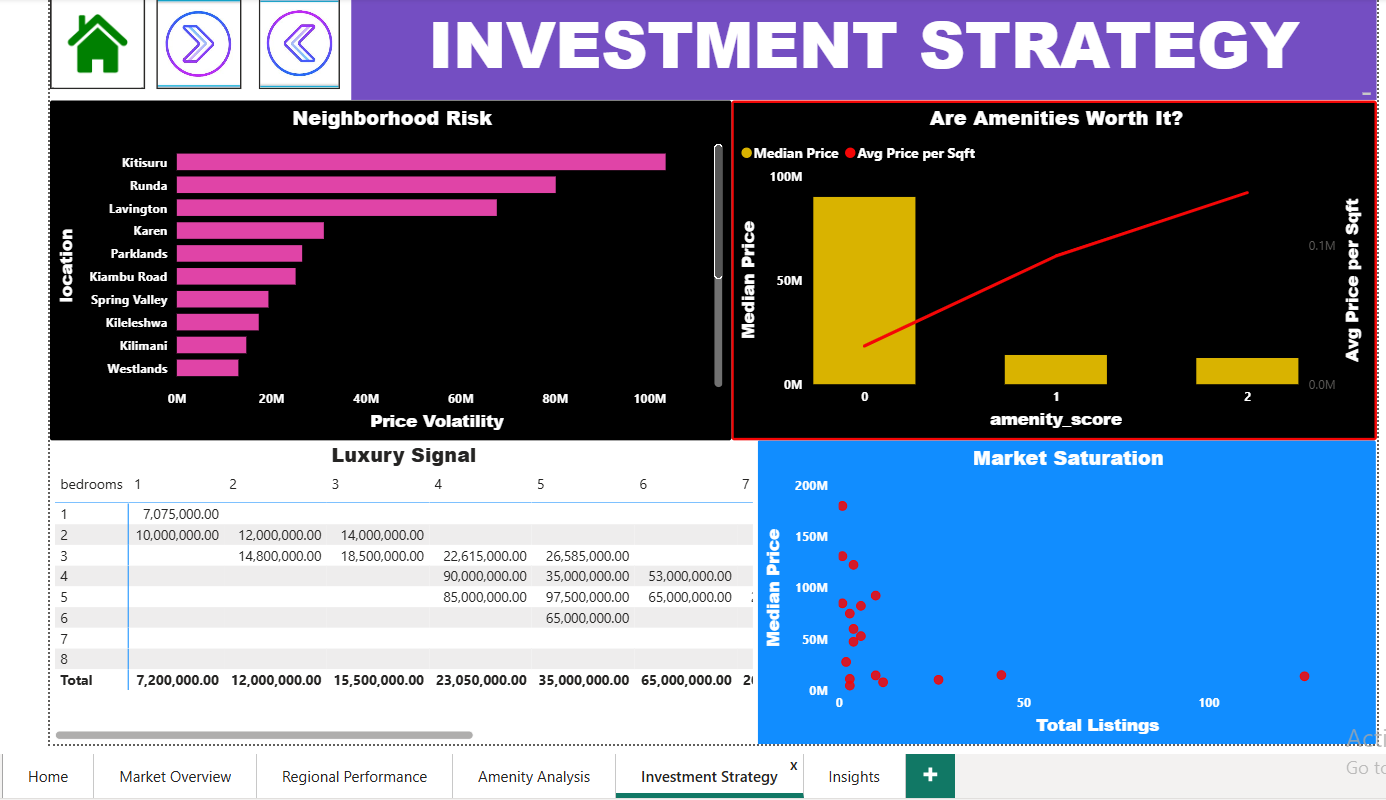

The page's visual inventory and layout, read from the dashboard file:
{"tool":"powerbi","page":{"name":"Investment Strategy","canvas":[1280,720],"ordinal":4},"visuals":[{"type":"scatterChart","title":"Market Saturation","fields":{"X":["clean_listings.Total Listings"],"Y":["clean_listings.Median Price"],"Category":["clean_listings.location"]},"box":[683.4,426.8,596.9,293.7],"z":0},{"type":"pivotTable","title":"Luxury Signal","fields":{"Rows":["clean_listings.bedrooms"],"Columns":["clean_listings.bathrooms"],"Values":["clean_listings.Median Price"]},"box":[0,426.8,683.4,293.7],"z":1000},{"type":"lineStackedColumnComboChart","title":"Are Amenities Worth It?","fields":{"Category":["clean_listings.amenity_score"],"Y":["clean_listings.Median Price"],"Y2":["clean_listings.Avg Price per Sqft"]},"box":[657.3,98.8,623,328],"z":2000},{"type":"clusteredBarChart","title":"Neighborhood Risk","fields":{"Category":["clean_listings.location"],"Y":["clean_listings.Price Volatility"]},"box":[0,98.8,657.3,328],"z":3000},{"type":"textbox","title":"INVESTMENT STRATEGY","box":[290.9,0,989.4,98.8],"z":4000},{"type":"image","box":[0,0,91.9,87.8],"z":5000},{"type":"image","box":[102.9,0,82.3,87.8],"z":6000},{"type":"image","box":[201.7,0,78.2,87.8],"z":7000}]}

Visuals, with their boxes on the page's 1280x720 design canvas (x1, y1, x2, y2). These are canvas units, not pixel positions in the 1386x800 screenshot, which may show the page scaled, cropped or inside an application window:
"Market Saturation" scatterChart: box=[683, 427, 1280, 720]
"Luxury Signal" pivotTable: box=[0, 427, 683, 720]
"Are Amenities Worth It?" lineStackedColumnComboChart: box=[657, 99, 1280, 427]
"Neighborhood Risk" clusteredBarChart: box=[0, 99, 657, 427]
"INVESTMENT STRATEGY" textbox: box=[291, 0, 1280, 99]
image: box=[0, 0, 92, 88]
image: box=[103, 0, 185, 88]
image: box=[202, 0, 280, 88]
